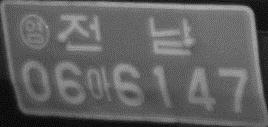0: (20, 59, 52, 103)
1: (148, 63, 181, 109)
4: (186, 68, 216, 111)
6: (112, 63, 146, 109), (54, 61, 86, 104)
7: (218, 67, 250, 115)
아: (87, 67, 111, 102)
영: (18, 13, 51, 51)
전남_D: (58, 13, 192, 56)
